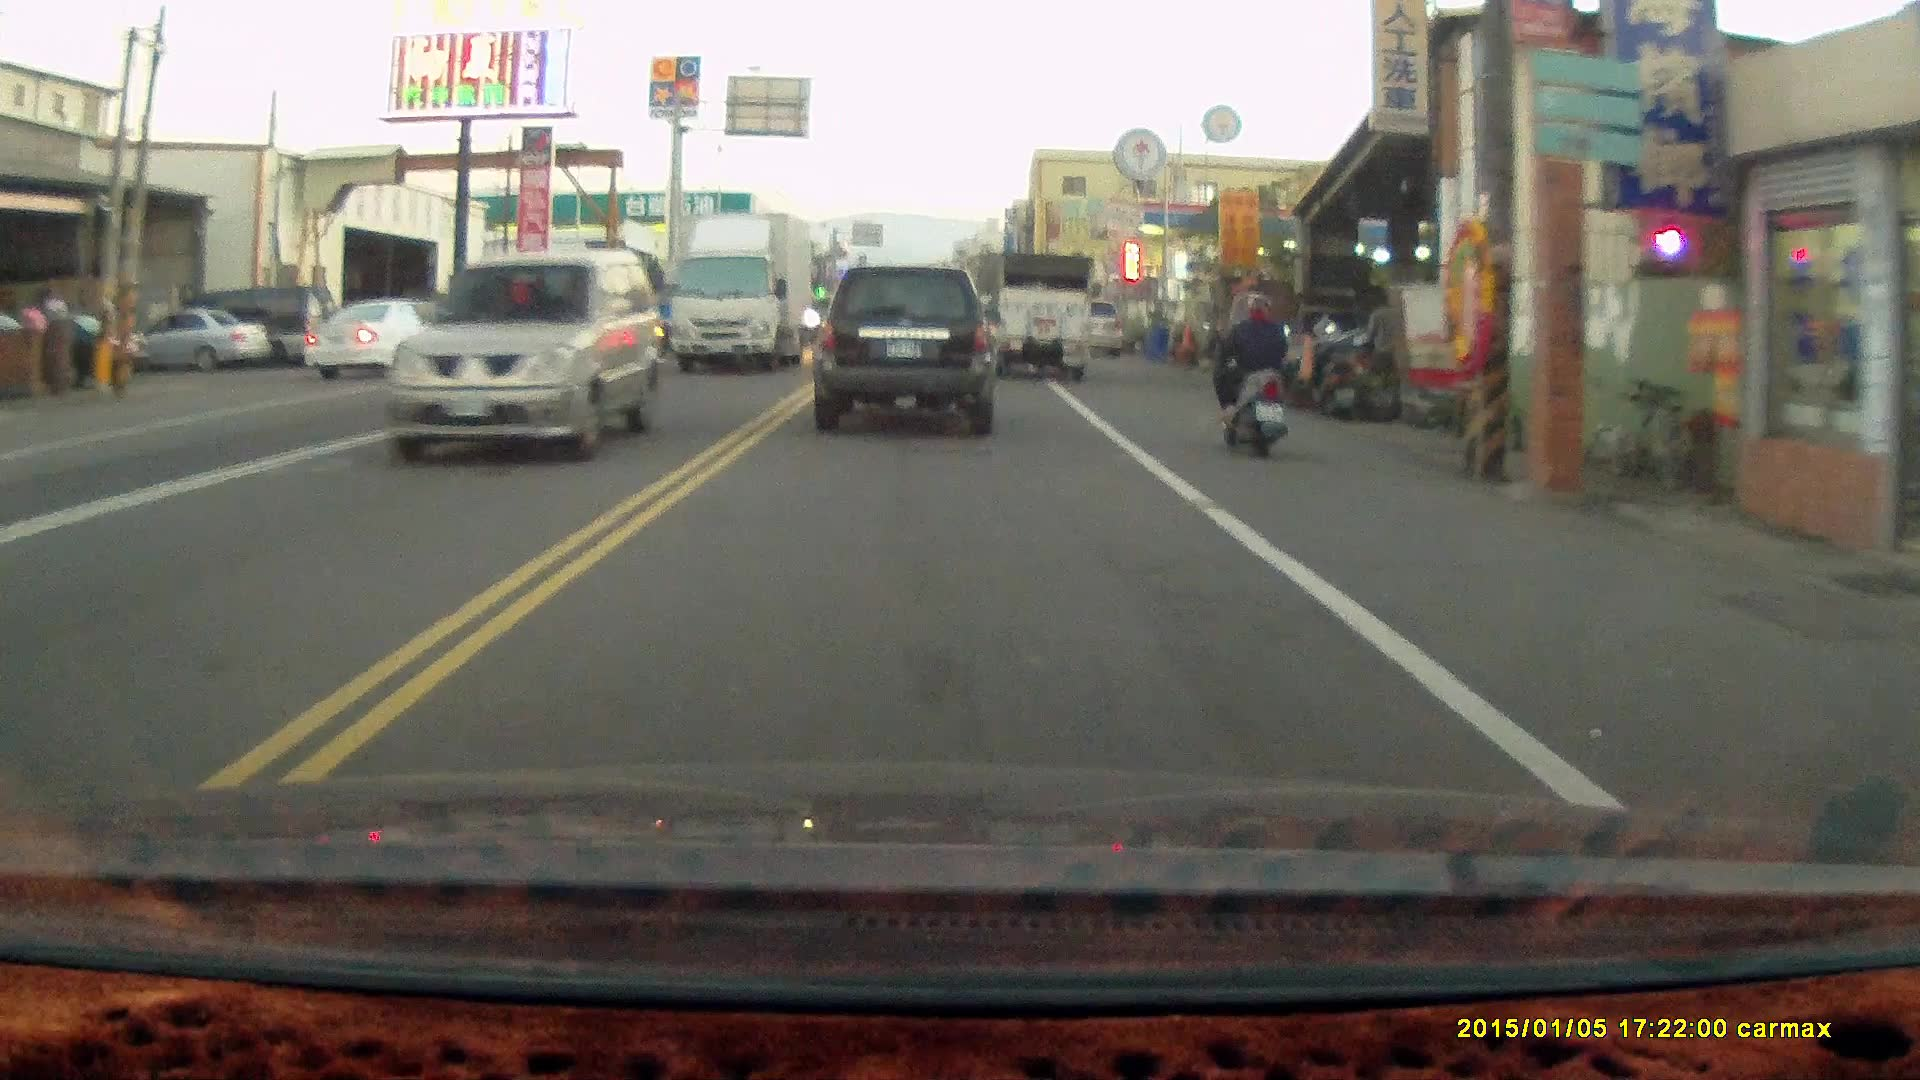pedestrian: (1364, 288, 1406, 406)
rider: (1201, 290, 1293, 460)
vehicle: (394, 250, 656, 464), (813, 257, 998, 433), (669, 212, 813, 377), (304, 298, 481, 387), (988, 249, 1092, 383), (144, 306, 278, 375)
